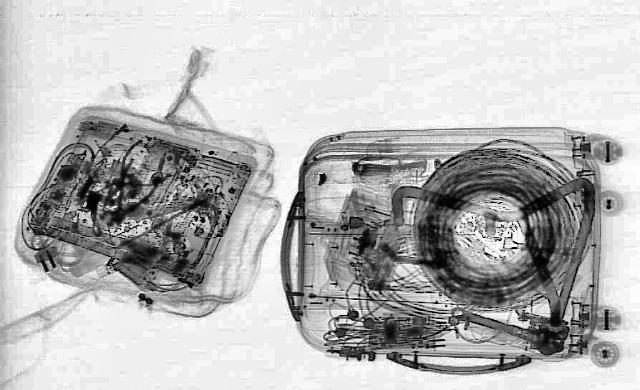Pliers: (88, 158, 168, 236)
Wrench: (436, 299, 576, 357)
